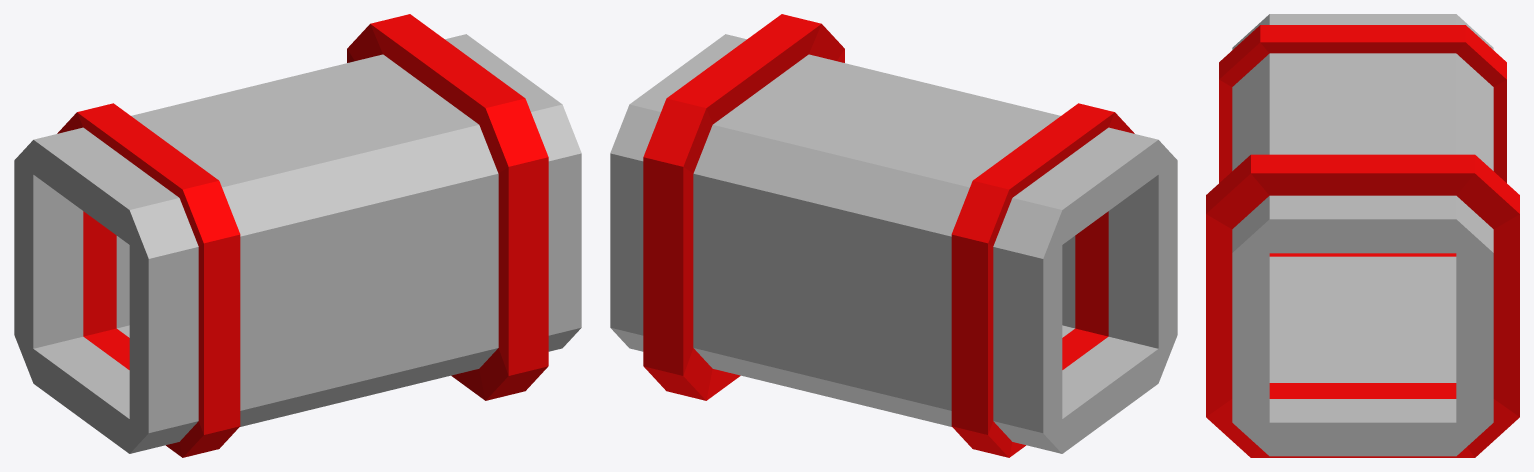
File: truba s pereg.fbx
The picture shows the model from 3 angles, left to right: view 1: azimuth 30°, elevation 25°; view 2: azimuth 150°, elevation 25°; view 3: azimuth 270°, elevation 25°; orthographic projection. The views are drawn at different scales.
Visible parts, largest first — view 1: truba s pereg.; view 2: truba s pereg.; view 3: truba s pereg..
Boxes of the visible parts, x1,y1,x2,y2 form: truba s pereg.: [14, 14, 581, 457]; truba s pereg.: [610, 14, 1177, 457]; truba s pereg.: [1206, 14, 1519, 457].
Size of the model in its own units: 2600 by 1680 by 1680.
